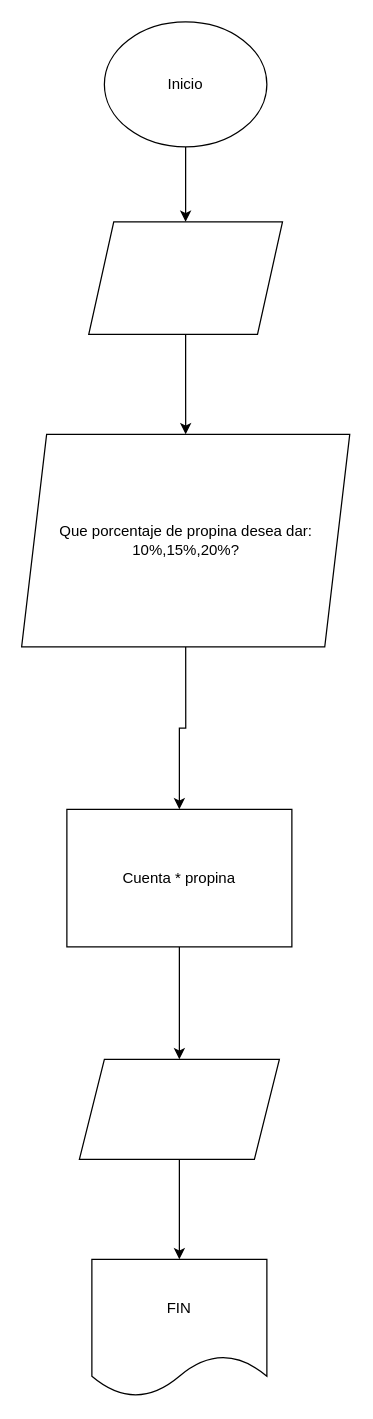
Image size: 373x1419. Some labels were removed from this diagram. The shapes that lost their labels are listed below. From the top down, each one's centre as x and y in pixels, then its label:
At (x=185, y=277): "Ingresa valor de la cuenta".
At (x=178, y=1108): "Valor total de la cuenta".
